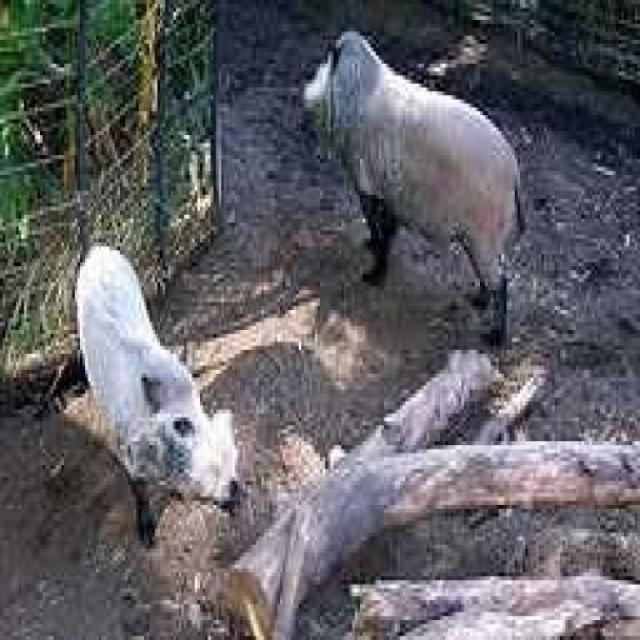pig: (299, 22, 632, 437), (0, 207, 325, 622)
